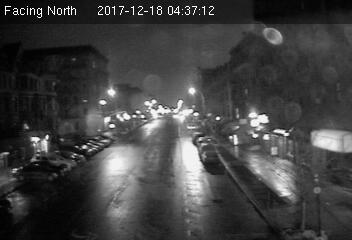car: (200, 150, 219, 164)
